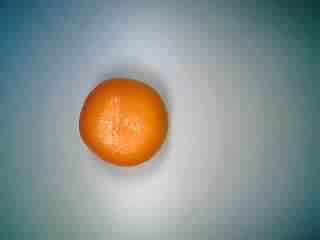orange: (77, 74, 173, 170)
